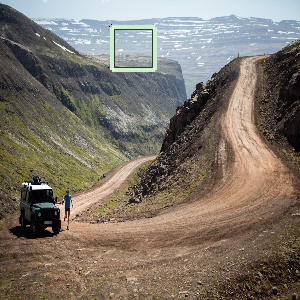square: (108, 22, 159, 73)
